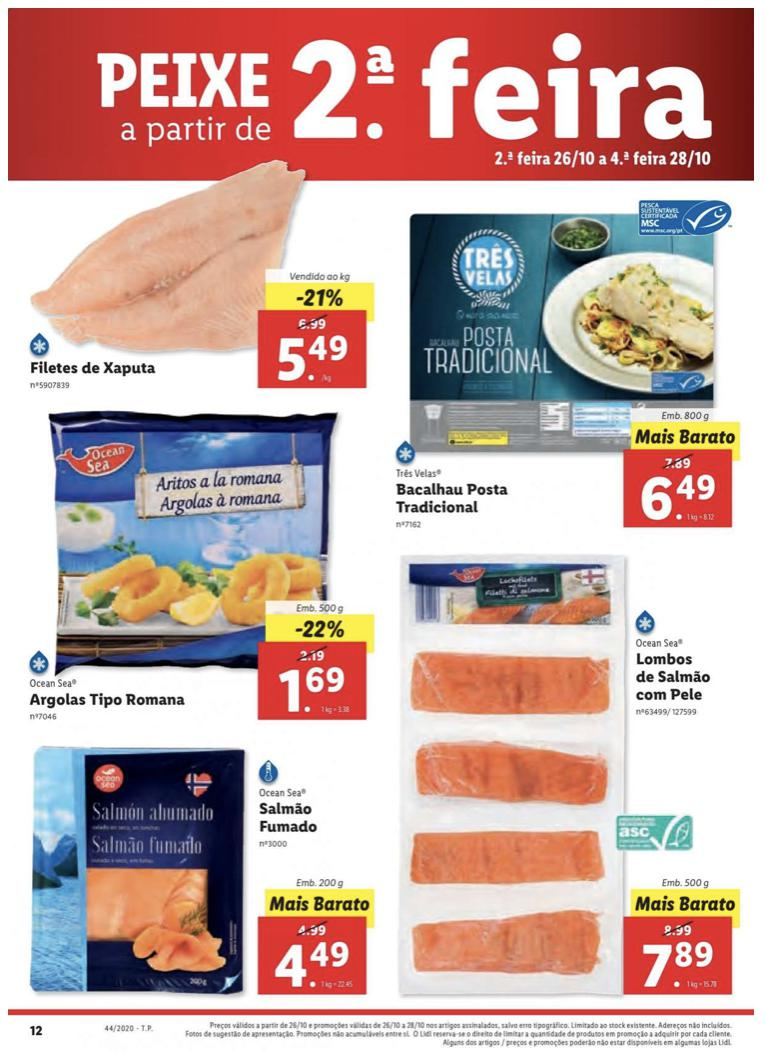name: (392, 478, 514, 517), (632, 648, 719, 702), (28, 686, 189, 712), (27, 356, 159, 380), (254, 800, 321, 838)
price: (272, 331, 357, 386), (638, 471, 715, 525), (272, 939, 351, 990), (640, 938, 720, 987), (277, 664, 350, 717)
product: (397, 543, 738, 992), (388, 197, 741, 530), (18, 395, 376, 723), (23, 739, 379, 992), (18, 162, 397, 395)
promotion: (289, 284, 347, 313), (293, 615, 347, 643)
